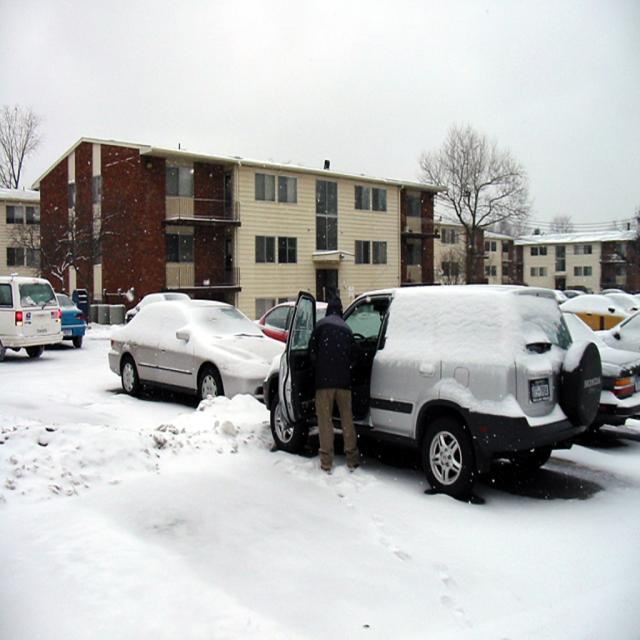car: (255, 274, 601, 495), (96, 286, 284, 415), (256, 299, 329, 337), (121, 291, 187, 319)
